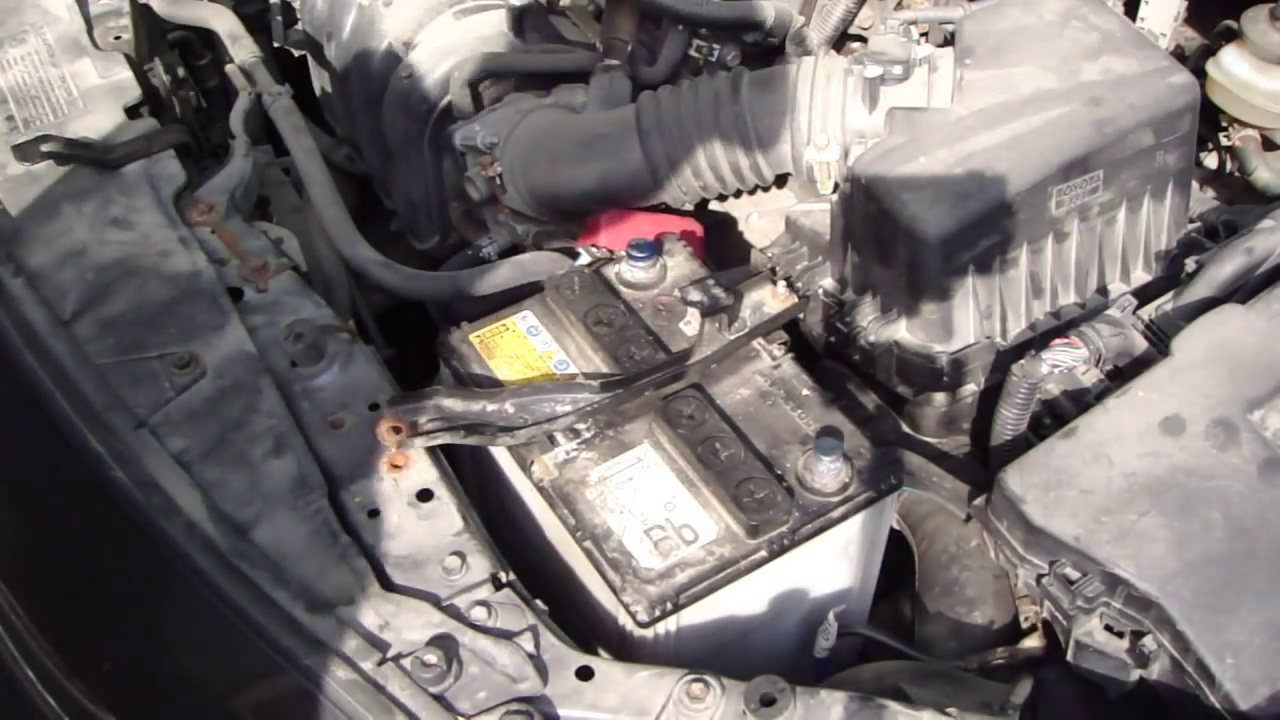battery: (441, 224, 899, 590)
neg_disconnected: (767, 403, 875, 511)
pos_disconnected: (575, 199, 711, 308)
